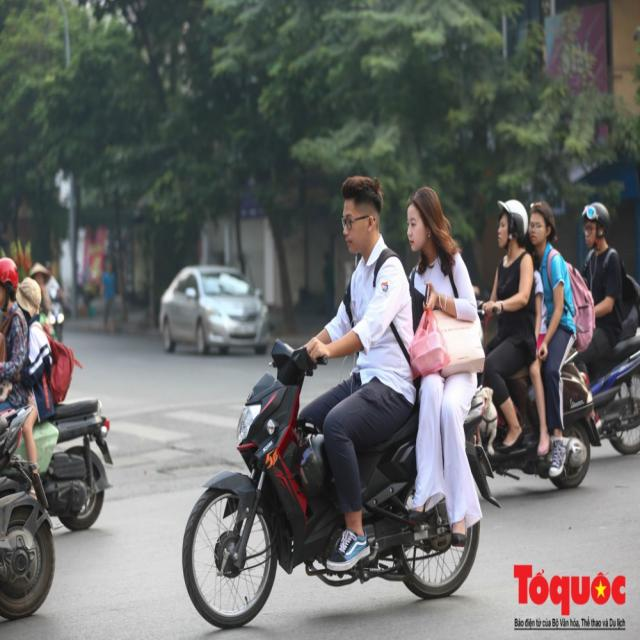no_helmet: (401, 181, 462, 272), (333, 164, 385, 261)
